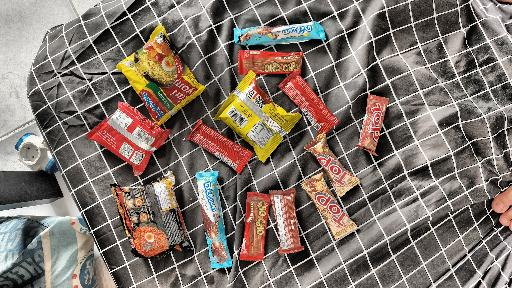chocho: (188, 121, 256, 177), (279, 71, 339, 132), (237, 190, 271, 263), (234, 47, 308, 77)
dilan: (193, 169, 236, 269), (231, 21, 329, 47)
indomie: (112, 38, 204, 123)
mie sedap: (109, 177, 195, 259)
momotaro: (216, 74, 296, 157), (84, 102, 168, 173)
top: (300, 172, 362, 242), (304, 134, 361, 191), (267, 186, 308, 253), (355, 92, 387, 157)
